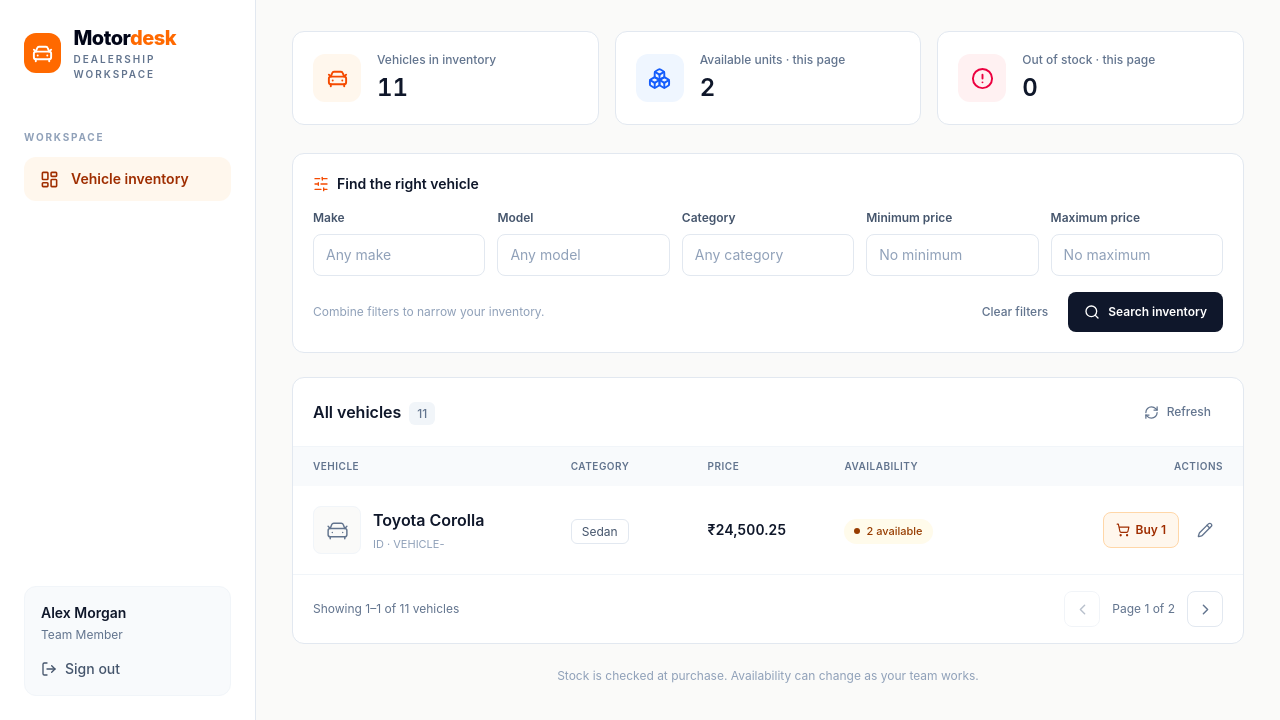
Test case: paginates with backend offset and returns to the first page
The width and height of the screenshot is (1280, 720).
(page scrolled)
Check: the heading "Toyota Corolla" is shown, box [373, 508, 484, 532]
Click the button named "Next page" at (1205, 609), box [1187, 591, 1223, 627]
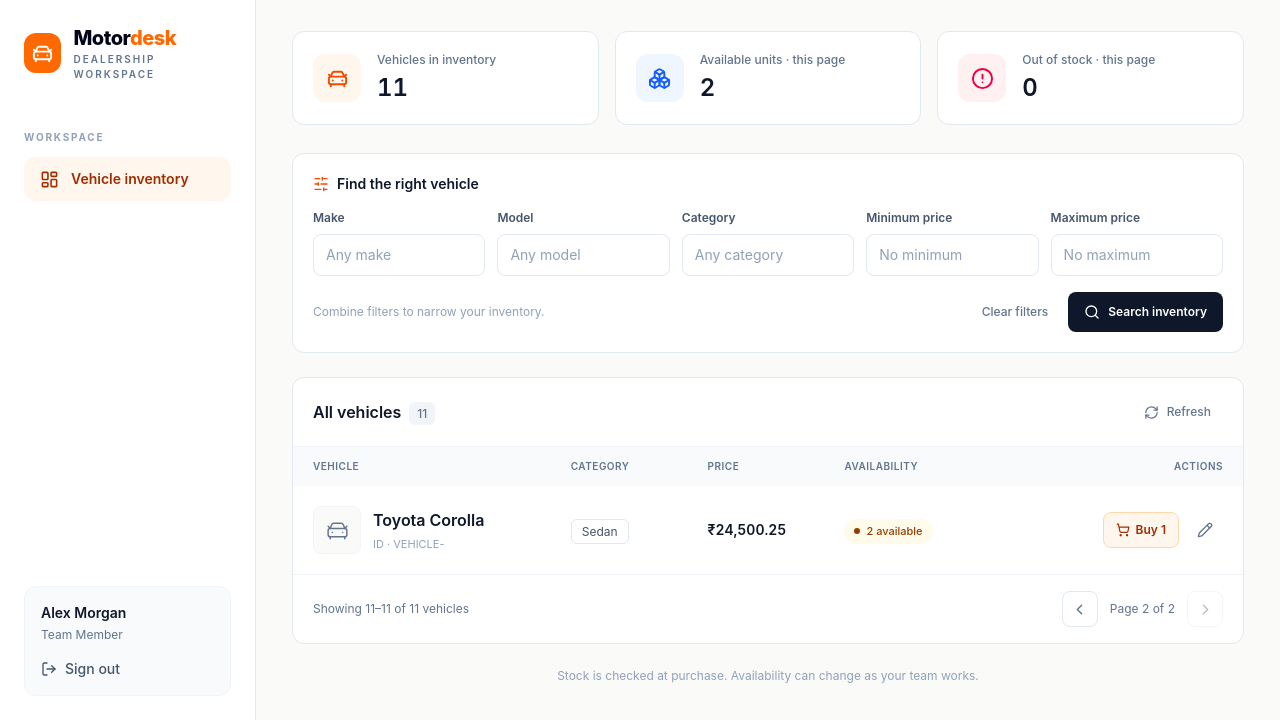
Check: the text "Page 2 of 2" is shown, box [1110, 601, 1175, 617]
Click the button named "Previous page" at (1080, 609), box [1062, 591, 1098, 627]
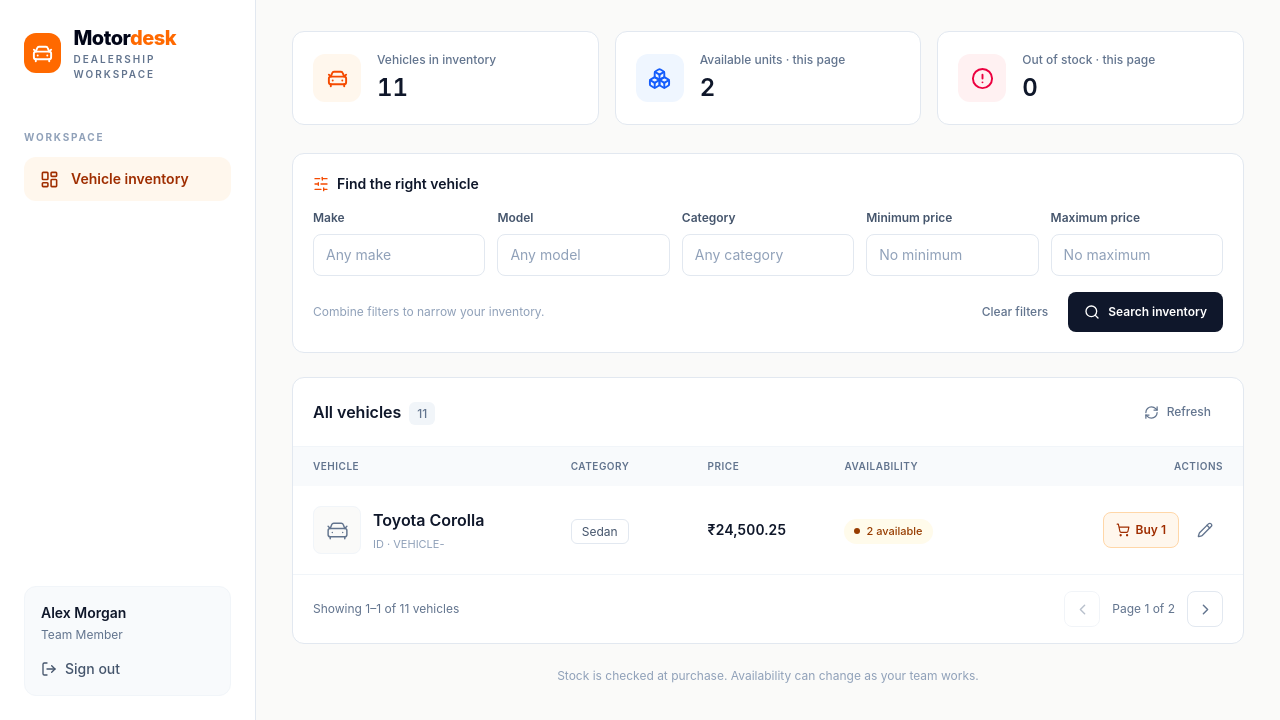
Check: the text "Page 1 of 2" is shown, box [1112, 601, 1175, 617]
